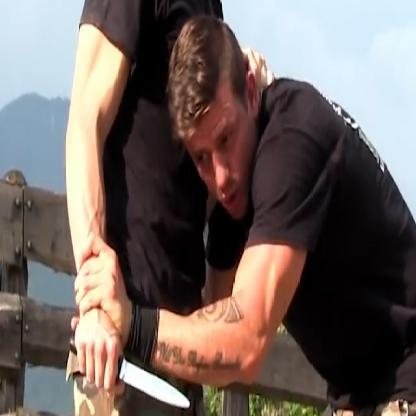knife: (64, 311, 197, 415)
